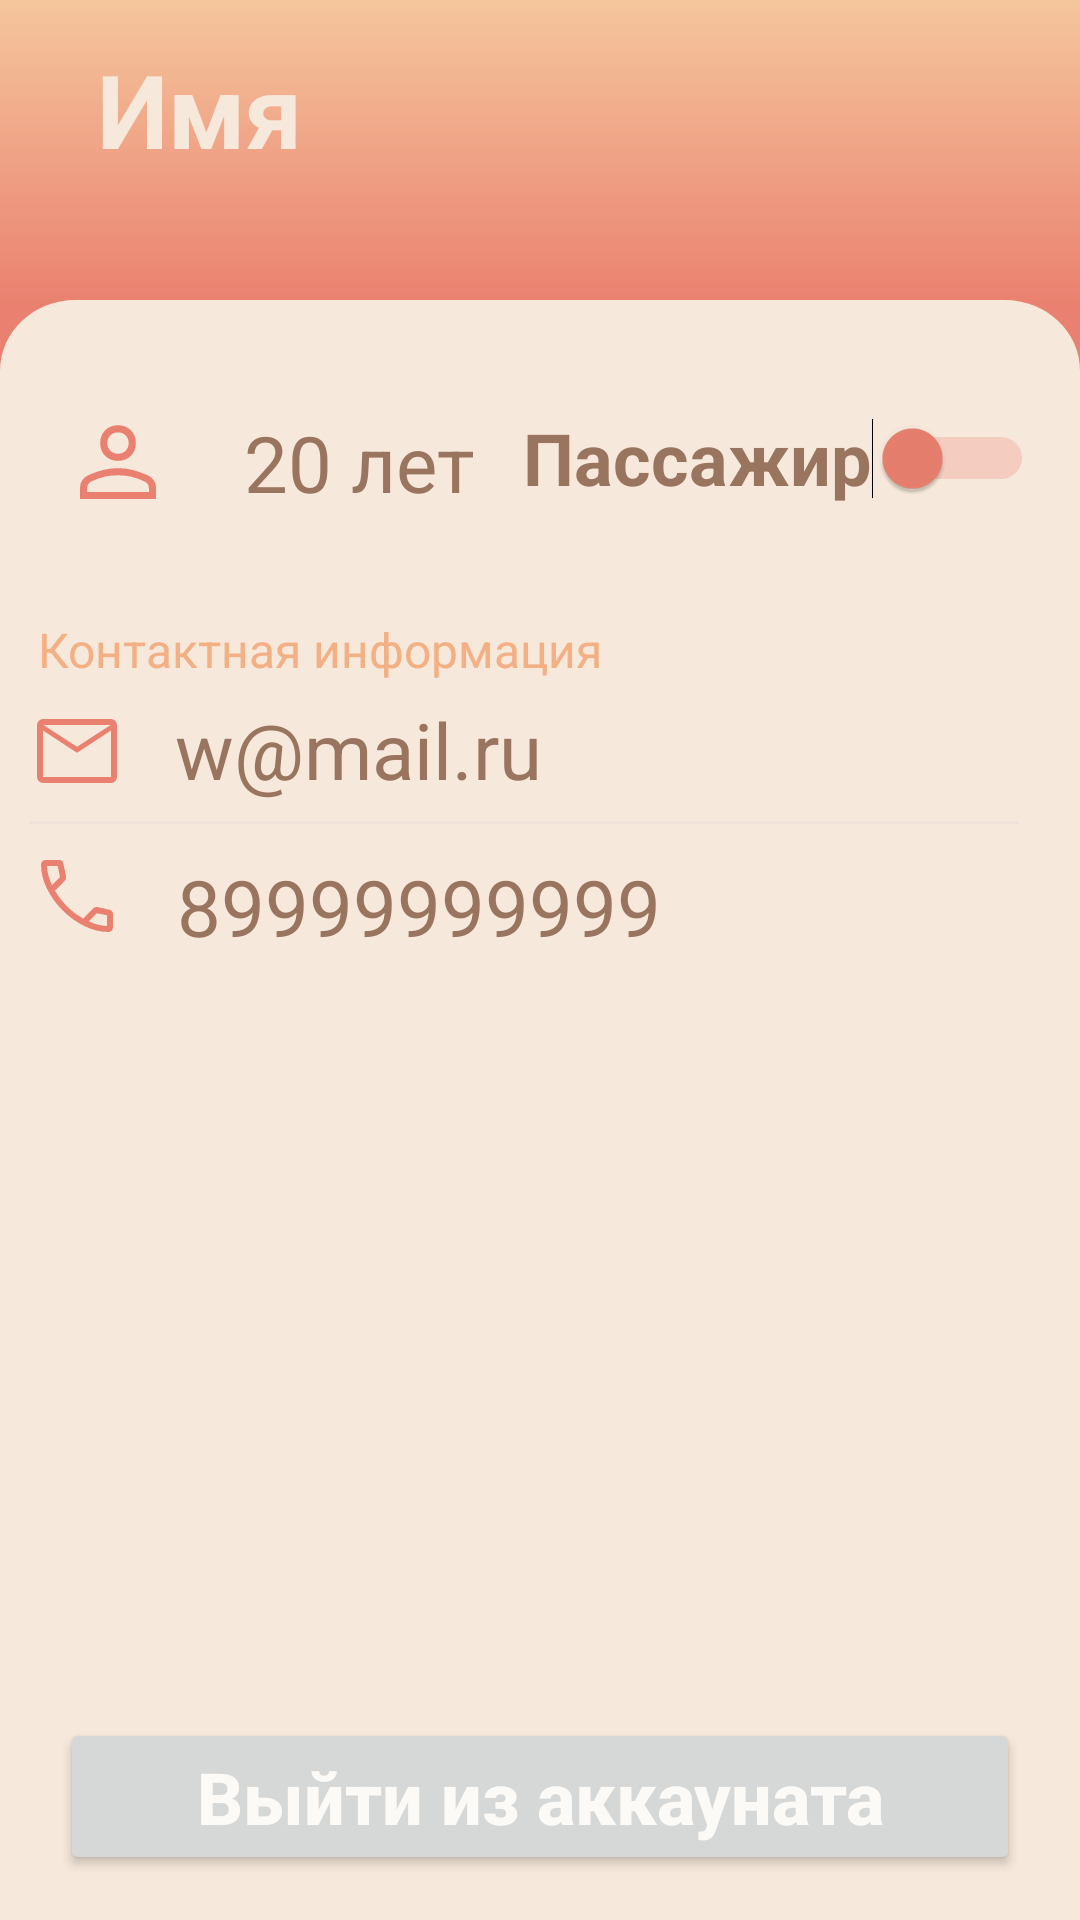

Point at icon controls on the screen. Image size 1080 × 1920, points as point (x, y).
person: point (118, 462)
phone: point (77, 896)
